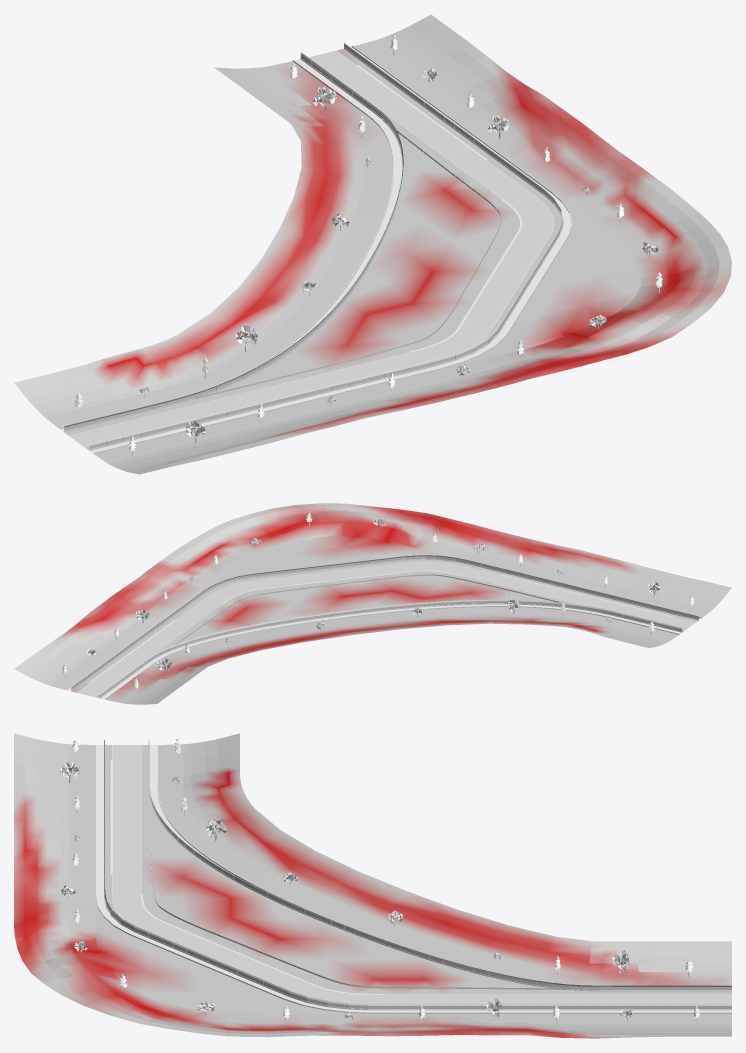
3 views of the same model, one above another, from view 1: azimuth 30°, elevation 25°; view 2: azimuth 150°, elevation 25°; view 3: azimuth 270°, elevation 25° (orthographic). The views are drawn at different scales.
Visible parts, largest first — view 1: Grass, Road, Track, Wirefence, Trees; view 2: Grass, Road, Wirefence, Track, Trees; view 3: Grass, Road, Track, Wirefence, Trees.
Boxes of the visible parts, box(x1,y1,x2,y2) form: Grass: box(14, 14, 731, 474); Road: box(69, 50, 553, 447); Track: box(59, 42, 572, 453); Wirefence: box(64, 43, 562, 449); Trees: box(74, 35, 662, 455); Grass: box(14, 503, 731, 704); Road: box(77, 562, 695, 696); Wirefence: box(71, 555, 698, 697); Track: box(66, 556, 701, 699); Trees: box(62, 512, 694, 691); Grass: box(14, 733, 731, 1038); Road: box(113, 745, 731, 1003); Track: box(96, 744, 731, 1013); Wirefence: box(104, 739, 731, 1008); Trees: box(60, 739, 699, 1022).
Size of what is drawn, in the model's own units: 44500 by 1946 by 44500.
